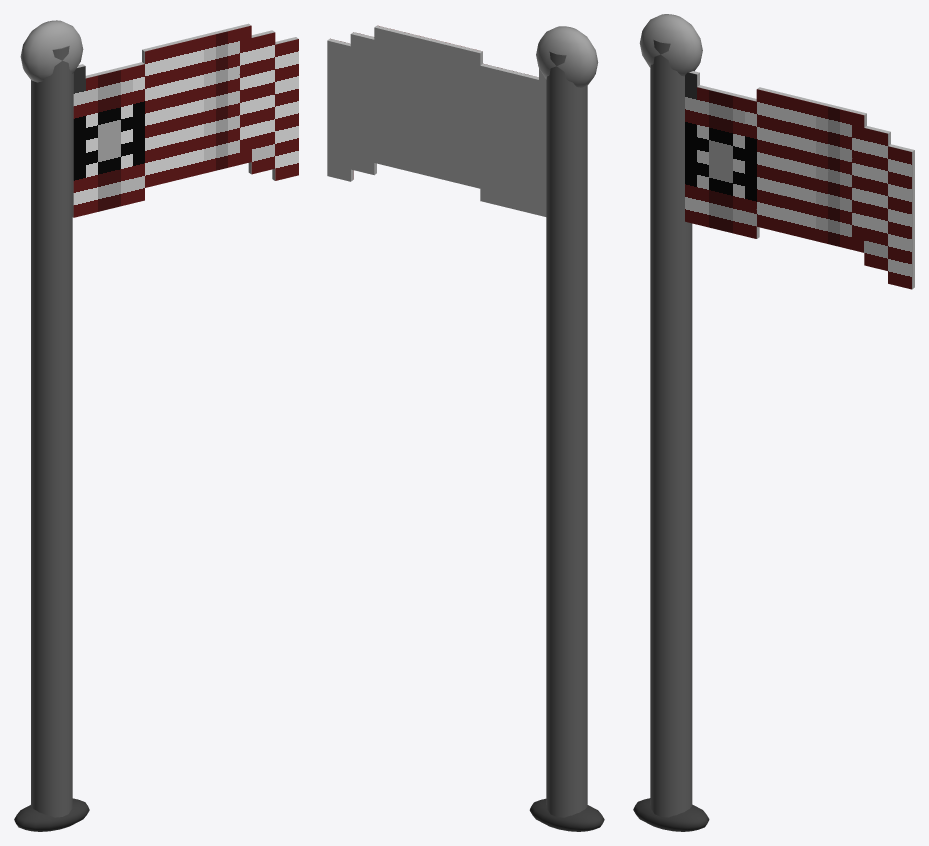
File: CMU3DAU14FlagCarriableUADecorFinalCloudPlantedStudy.glb
The picture shows the model from 3 angles, left to right: view 1: azimuth 30°, elevation 25°; view 2: azimuth 150°, elevation 25°; view 3: azimuth 330°, elevation 25°; orthographic projection.
Visible parts, largest first — view 1: single round planted flag pole, planted cloth source frame zero original face, raised top finial, source planted foot ferrule; view 2: single round planted flag pole, planted cloth source frame zero contour backing 3, planted cloth source frame zero contour backing 2, raised top finial, planted cloth source frame zero contour backing 1, source planted foot ferrule, planted cloth source frame zero contour backing 4, planted cloth source frame zero contour backing 5; view 3: planted cloth source frame zero original face, single round planted flag pole, raised top finial, source planted foot ferrule.
Boxes of the visible parts, <box> form: single round planted flag pole: <box>31,46,72,817</box>; planted cloth source frame zero original face: <box>73,25,298,217</box>; raised top finial: <box>20,20,83,82</box>; source planted foot ferrule: <box>14,798,89,831</box>; single round planted flag pole: <box>546,51,587,817</box>; planted cloth source frame zero contour backing 3: <box>327,39,546,204</box>; planted cloth source frame zero contour backing 2: <box>350,32,546,93</box>; raised top finial: <box>536,26,598,87</box>; planted cloth source frame zero contour backing 1: <box>374,25,482,65</box>; source planted foot ferrule: <box>529,798,604,831</box>; planted cloth source frame zero contour backing 4: <box>480,189,546,216</box>; planted cloth source frame zero contour backing 5: <box>327,151,376,175</box>; planted cloth source frame zero original face: <box>685,72,911,289</box>; single round planted flag pole: <box>650,39,692,817</box>; raised top finial: <box>639,14,702,76</box>; source planted foot ferrule: <box>633,798,709,831</box>.
Size of the model in its own units: 0.7357 by 2.03 by 0.11.
5 materials, 1 textured.
